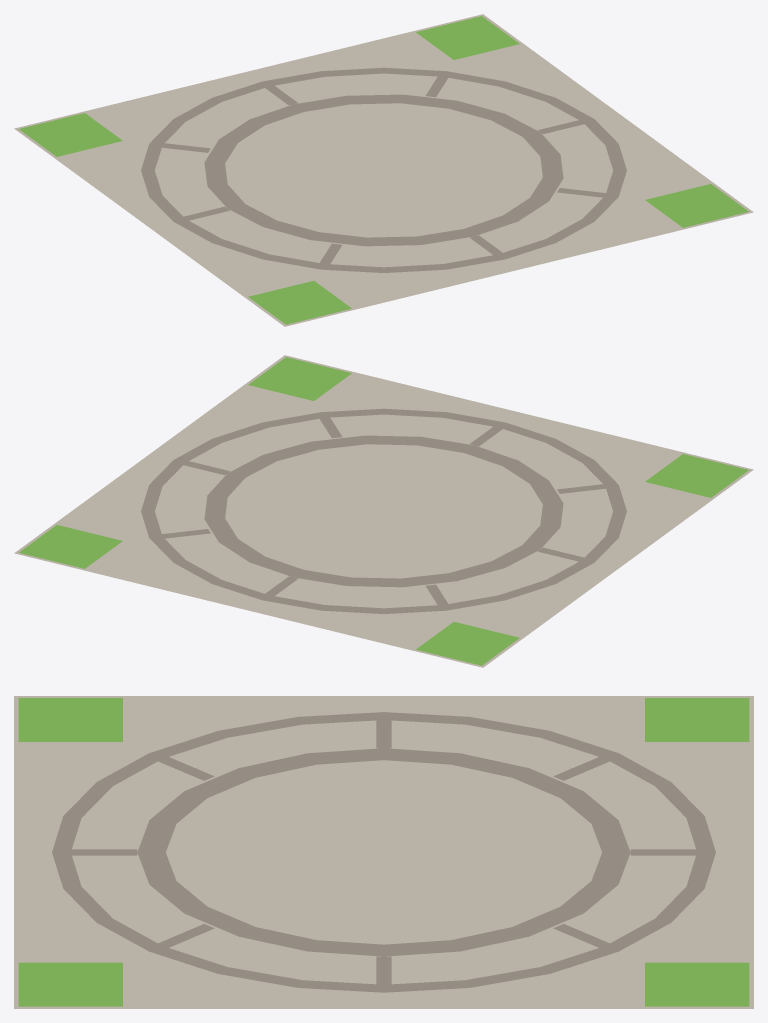
Rendered from L_Square.fbx.
3 views of the same model, one above another, from view 1: azimuth 30°, elevation 25°; view 2: azimuth 150°, elevation 25°; view 3: azimuth 270°, elevation 25° (orthographic). The views are drawn at different scales.
Parts seen in each view (by area): view 1: L_Square; view 2: L_Square; view 3: L_Square.
Part boxes in pixels (box(x1,y1,x2,y2)): L_Square: box(14, 14, 753, 326); L_Square: box(14, 355, 753, 667); L_Square: box(14, 696, 753, 1008).
Size of the model in its own units: 7.8 by 0.001 by 7.8.
